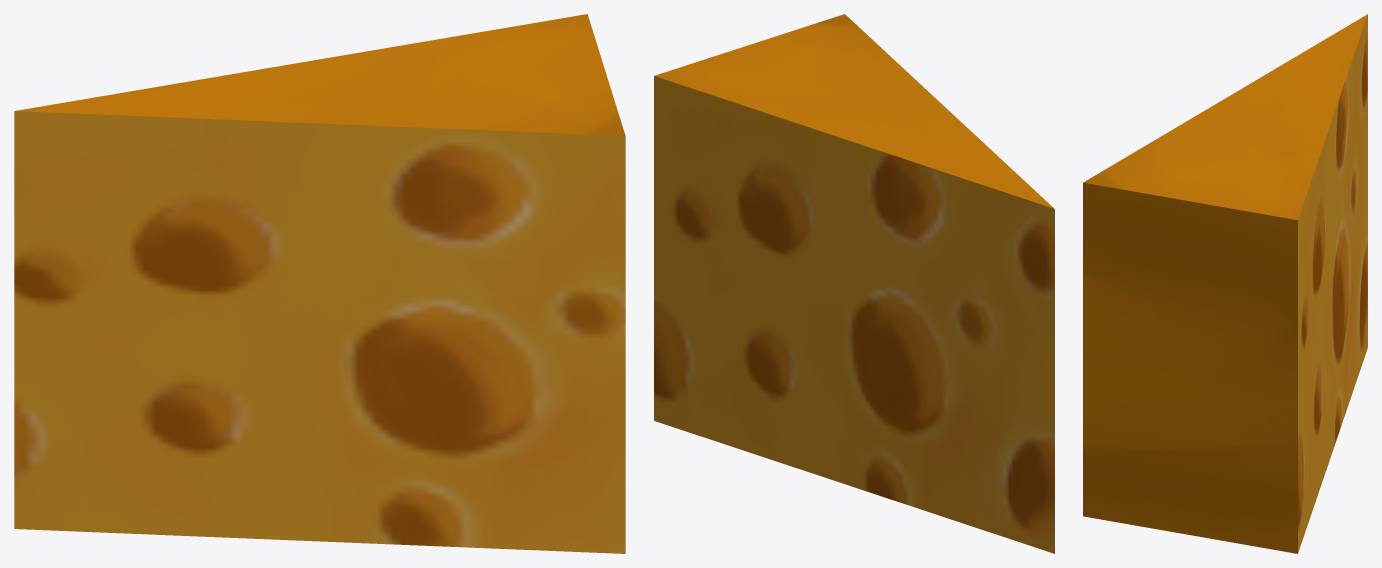
File: SM_PROP_food_cheese_05.FBX
3 views of the same model, side by side, from view 1: azimuth 30°, elevation 25°; view 2: azimuth 150°, elevation 25°; view 3: azimuth 270°, elevation 25° (orthographic). The views are drawn at different scales.
Visible parts, largest first — view 1: SM_PROP_food_cheese_05; view 2: SM_PROP_food_cheese_05; view 3: SM_PROP_food_cheese_05.
Part boxes in pixels (x1,y1,x2,y2): SM_PROP_food_cheese_05: [14, 14, 625, 553]; SM_PROP_food_cheese_05: [654, 14, 1054, 553]; SM_PROP_food_cheese_05: [1083, 14, 1367, 553].
Size of the model in its own units: 13.56 by 7.92 by 10.23.
